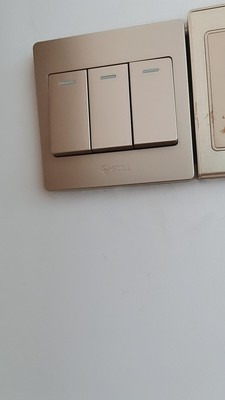switch: (126, 54, 182, 149), (82, 62, 137, 157), (42, 66, 95, 159)
